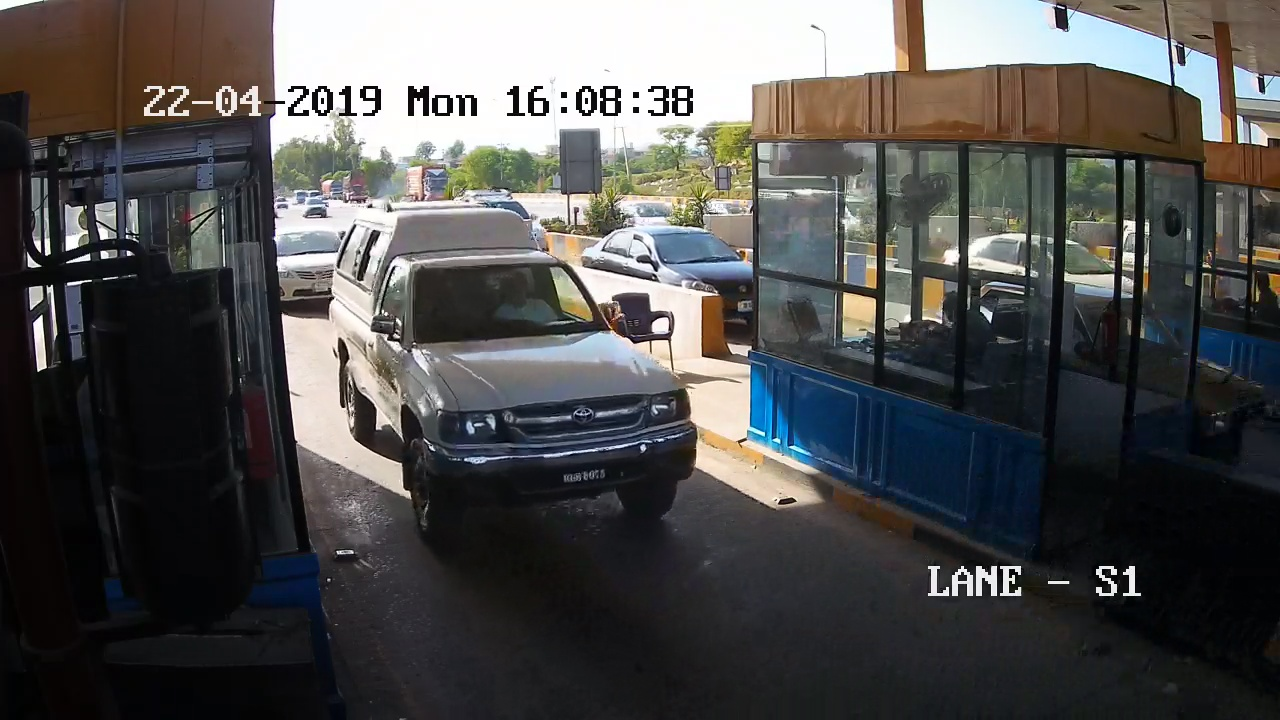Number Plate (Car): (558, 468, 610, 482), (310, 281, 326, 291)
